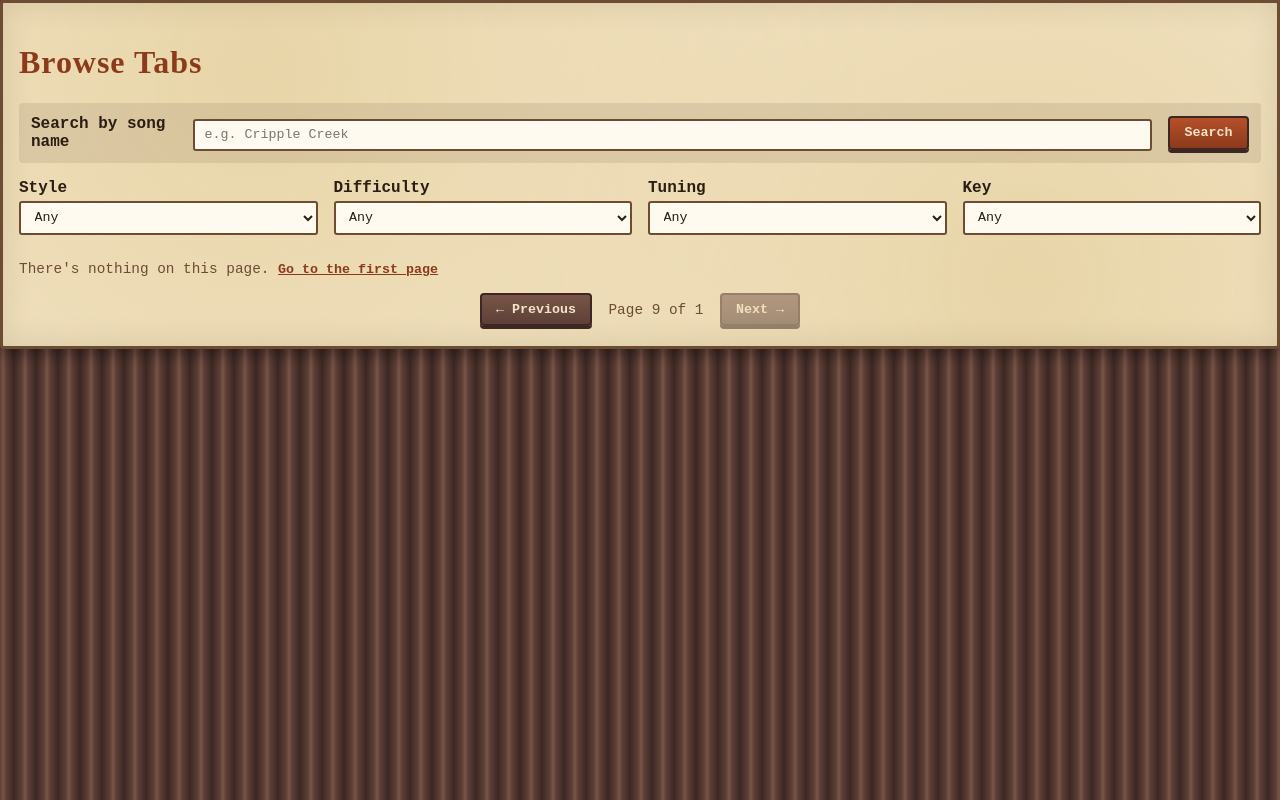
Test case: HomePage pagination › offers a way back from a page past the end
Click the button "Go to the first page" at (358, 270), box [278,262,438,277]
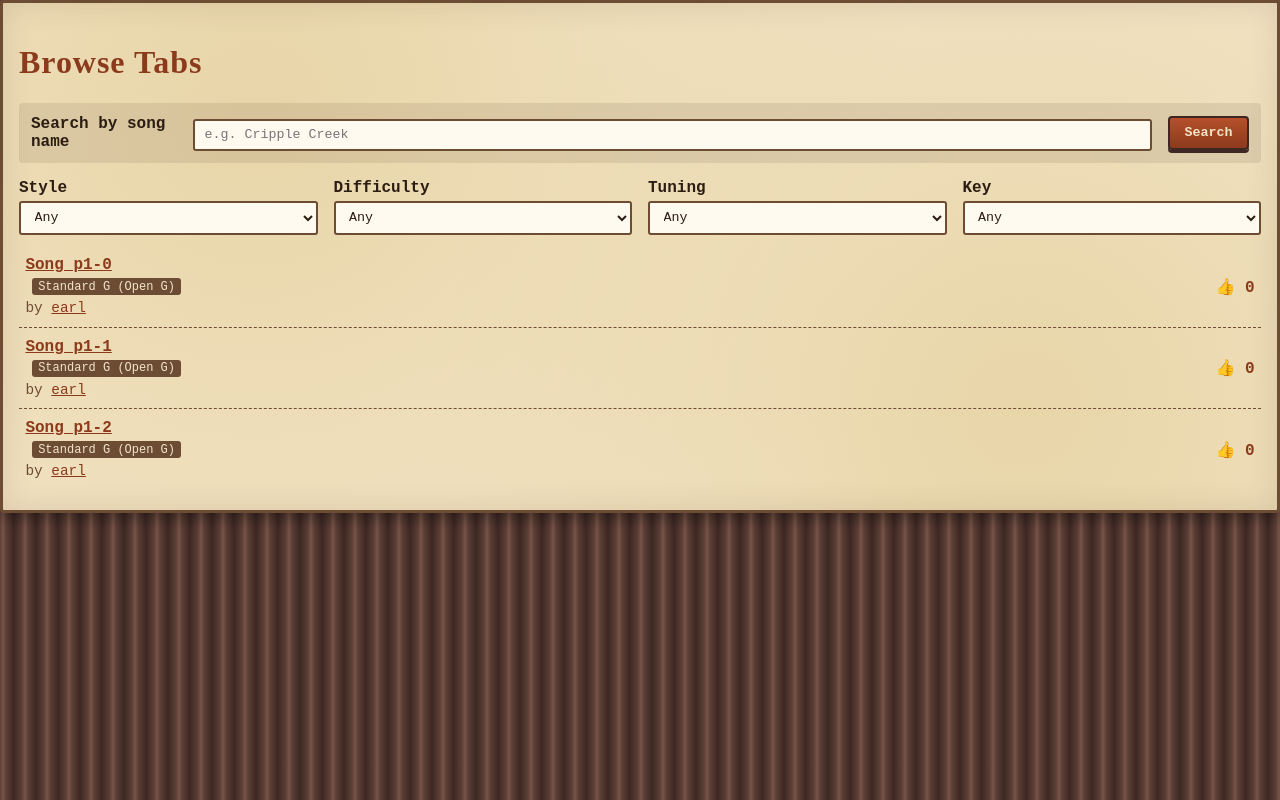
expect the text "Song p1-0" is shown: met, box [25,256,112,274]
